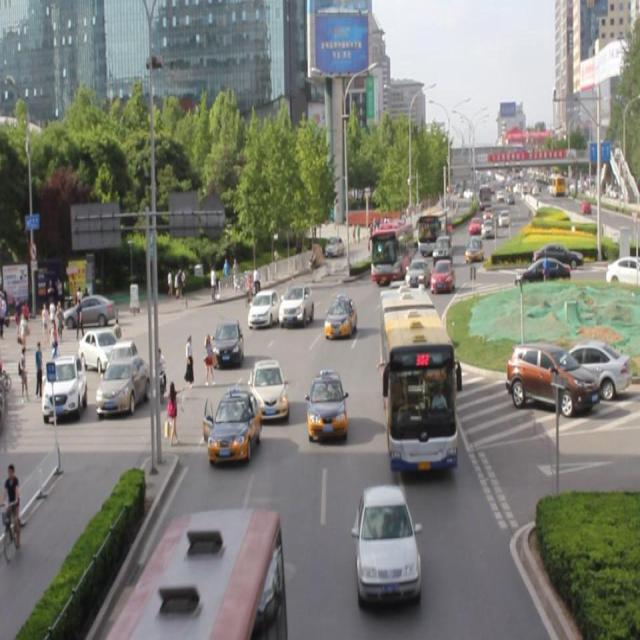car: (356, 484, 420, 602), (208, 389, 259, 463), (305, 374, 348, 439), (250, 359, 288, 420), (392, 297, 424, 345), (280, 282, 312, 328), (248, 286, 280, 331), (324, 295, 356, 340), (212, 320, 244, 364), (388, 276, 414, 314), (404, 255, 430, 289), (430, 258, 454, 293)
van: (125, 511, 286, 640), (380, 288, 455, 471), (371, 219, 413, 279)
